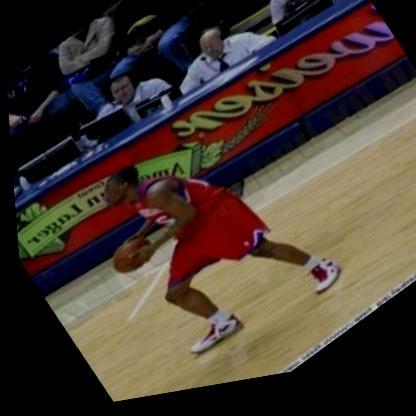basketball: (95, 226, 161, 293)
